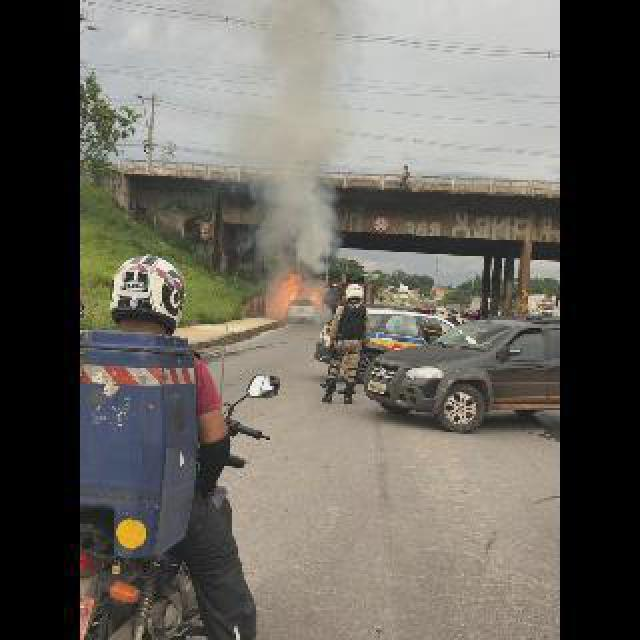Fire: (270, 276, 326, 318)
Smoke: (244, 34, 366, 268)
